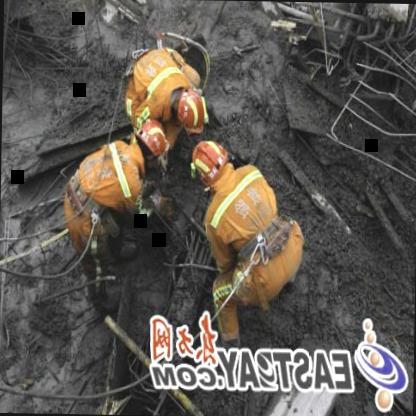helmet: (188, 138, 231, 188), (175, 86, 209, 132), (138, 119, 171, 160)
